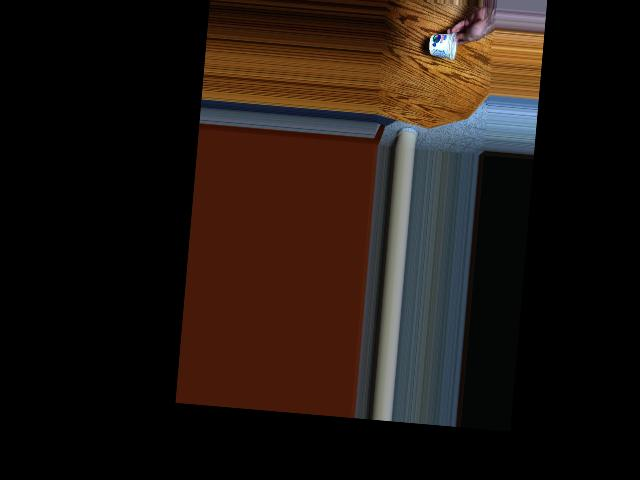cotage: (429, 29, 459, 63)
